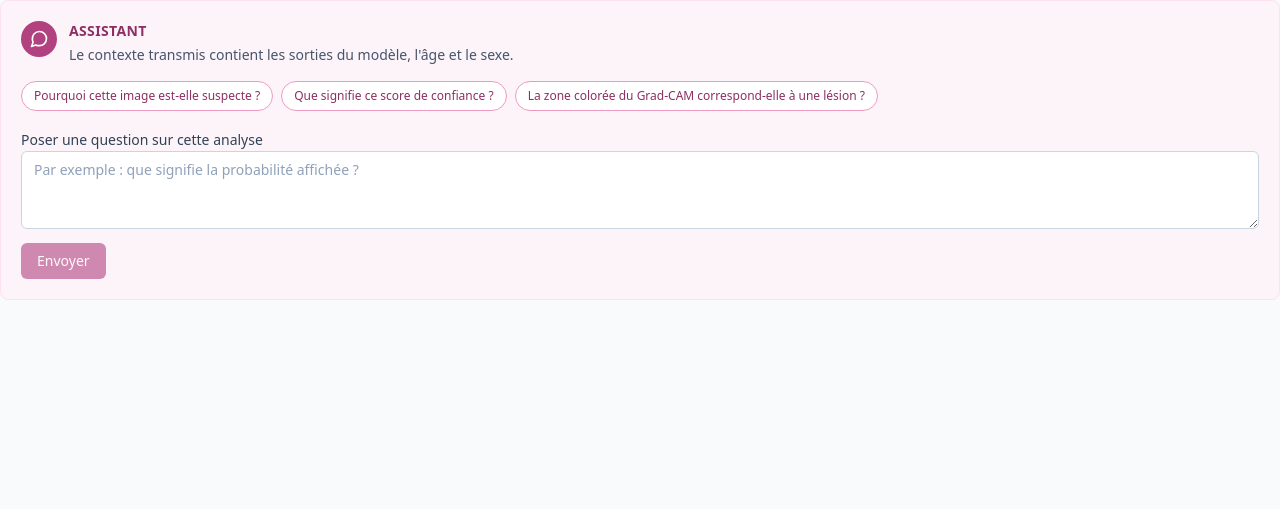
Test: Assistant › affiche la réponse du modèle
This screenshot has width=1280, height=509.
Type "Que signifie ce score ?" into the text box labelled "Poser une question sur cette analyse".
click(640, 190); type("Que signifie ce score ?")  # box [21,151,1259,229]
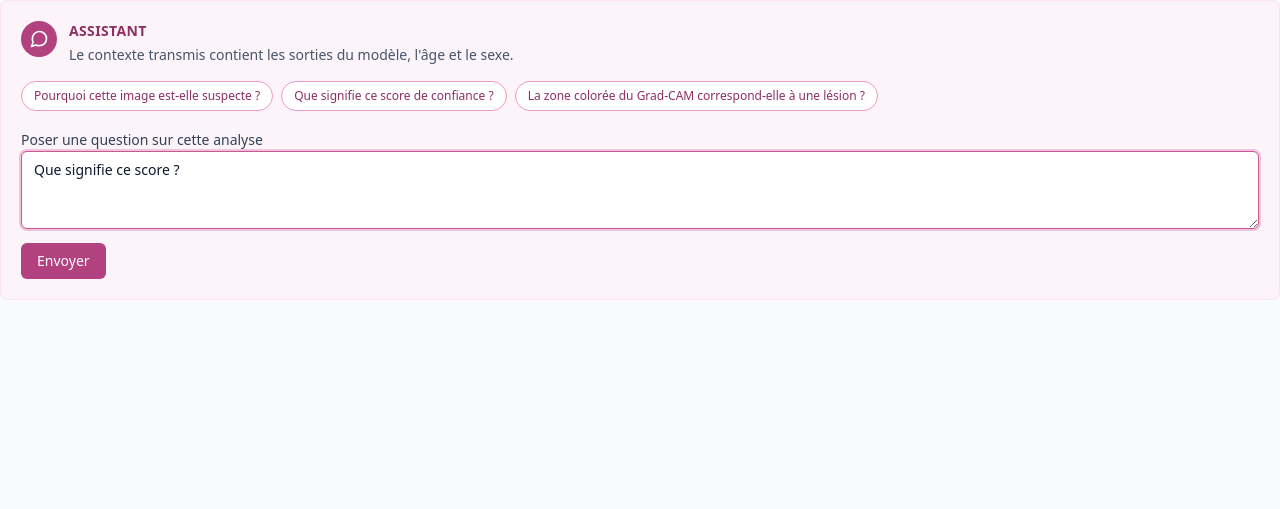
Click the button "Envoyer".
click(63, 261)  # box [21,243,106,279]
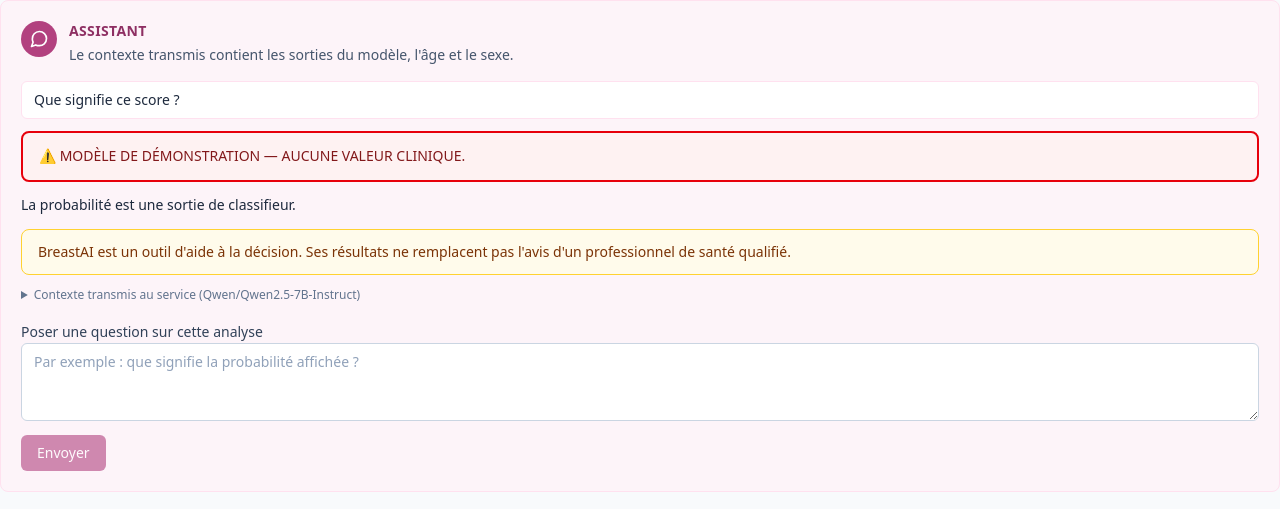
Expected: the text "La probabilité est une sortie de classifieur." is shown, [21,195,296,214]
